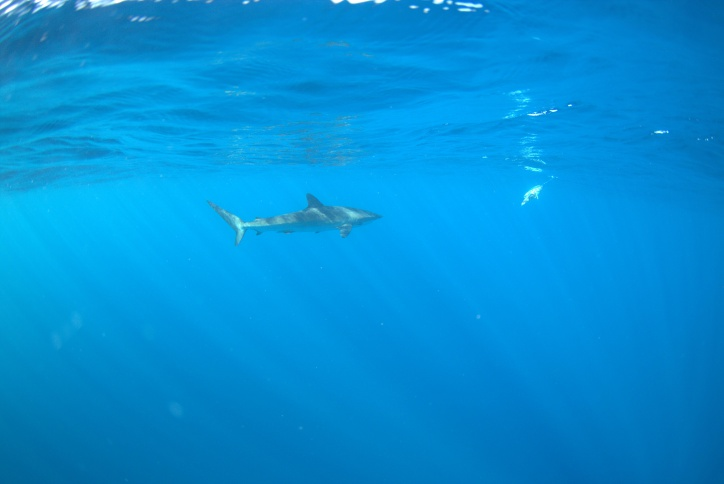Sedoso: (199, 191, 392, 248)
